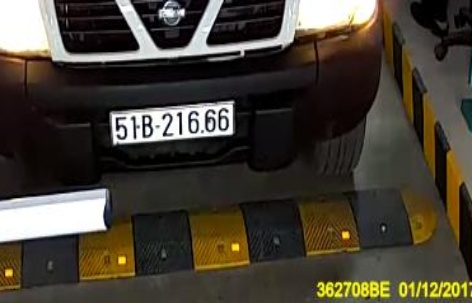plate: (107, 98, 240, 143)
